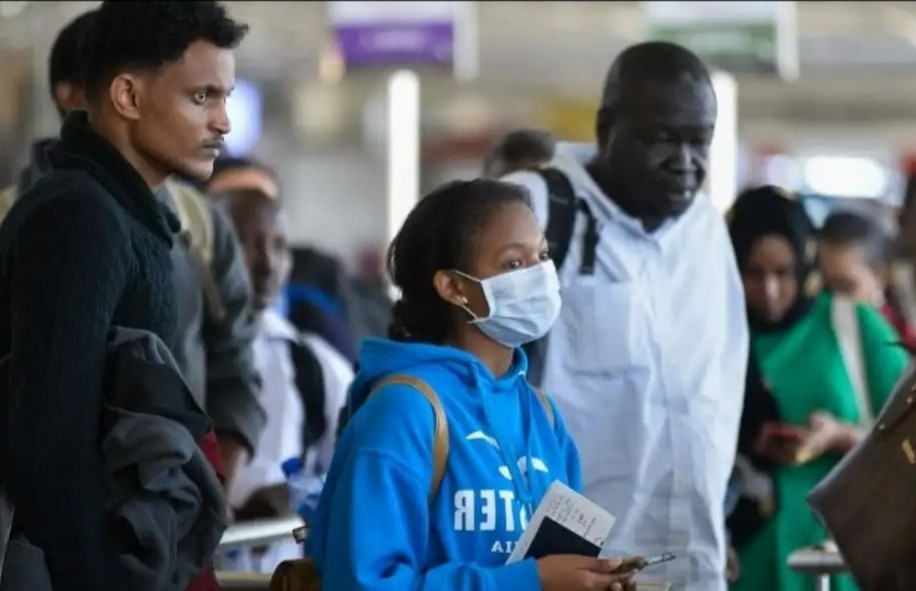with_mask: (438, 210, 560, 355)
without_mask: (107, 43, 235, 188), (599, 64, 716, 220), (748, 245, 796, 323)
